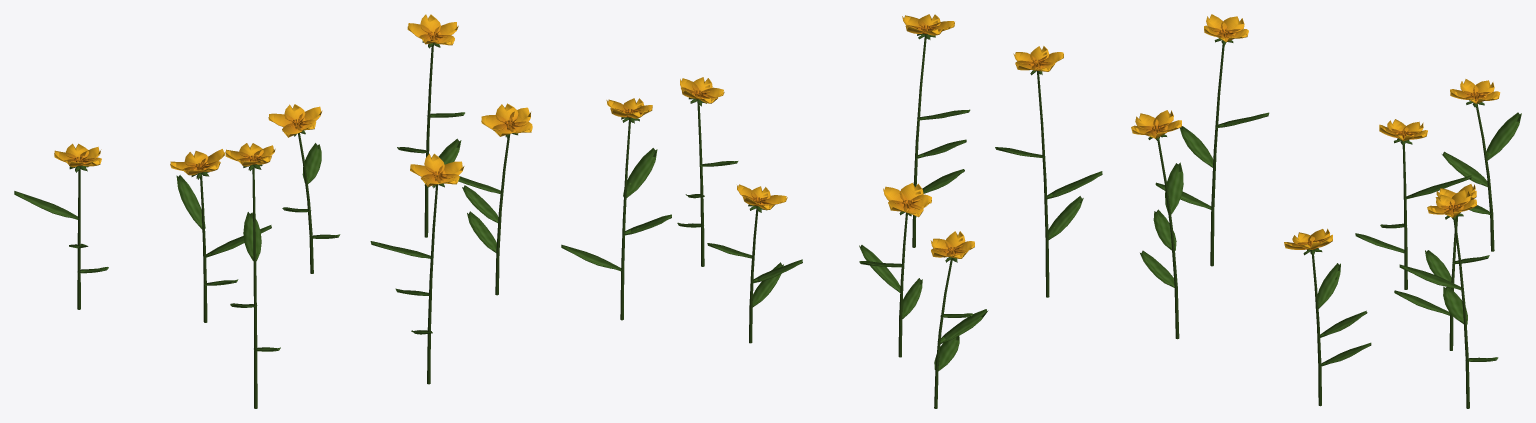
The model's file is flower_buttercup.fbx.
3 renders of one model, left to right at view 1: azimuth 30°, elevation 25°; view 2: azimuth 150°, elevation 25°; view 3: azimuth 270°, elevation 25°, orthographic. The views are drawn at different scales.
Visible parts, largest first — view 1: flower_buttercup; view 2: flower_buttercup; view 3: flower_buttercup.
Boxes of the visible parts, box(x1,y1,x2,y2) form: flower_buttercup: box(14, 14, 532, 408); flower_buttercup: box(561, 14, 1102, 408); flower_buttercup: box(1131, 14, 1521, 408).
Size of what is drawn, in the model's own units: 0.6462 by 0.3598 by 0.5224.
Materials: 1 (1 with a texture image).
